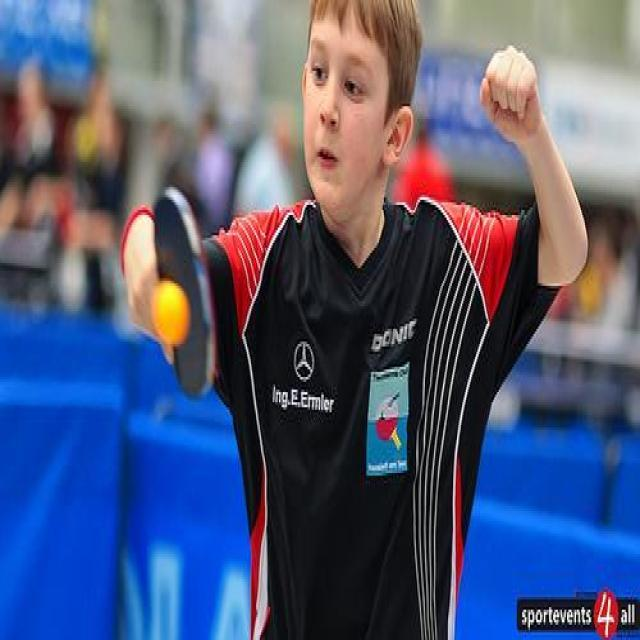ping-pong-ball: (150, 276, 190, 350)
